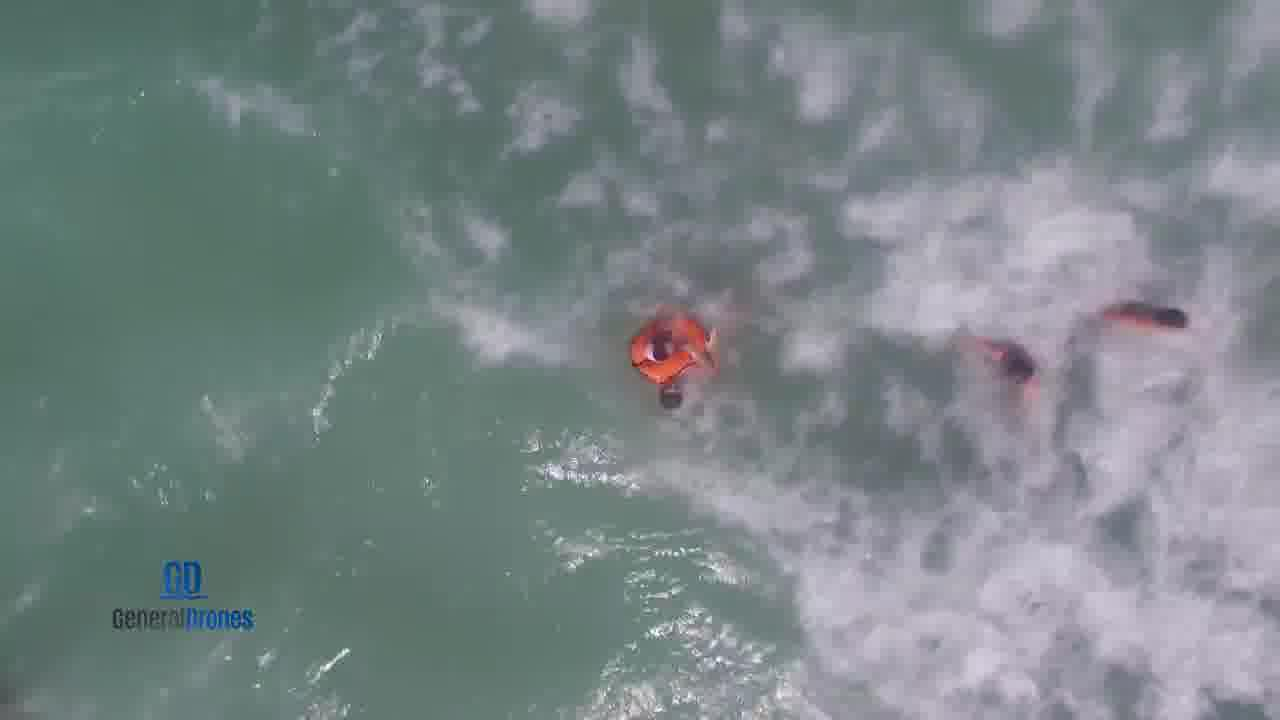human: (635, 297, 732, 414), (1079, 279, 1202, 349), (967, 320, 1052, 410)
